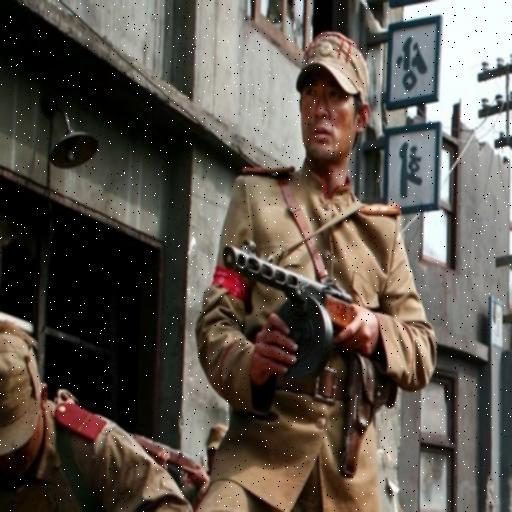north army: (245, 141, 425, 490), (10, 351, 167, 495), (310, 40, 382, 96)
